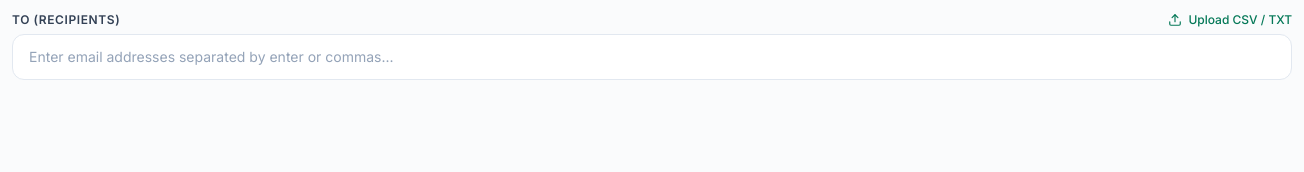
Test: RecipientChipInput Component › rejects invalid email formats
Type "not-an-email" into the field with placeholder "Enter email addresses separated by enter or commas..." at (652, 57), box [21,43,1283,71]
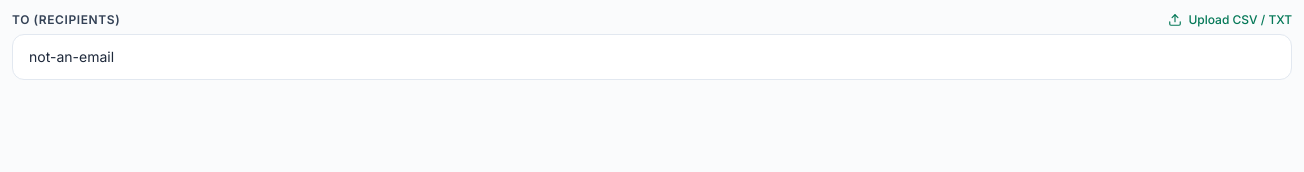
Press Enter in the field with placeholder "Enter email addresses separated by enter or commas...", box [21,43,1283,71]
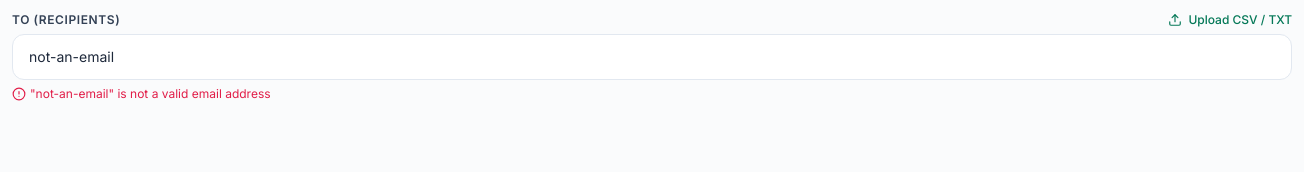
Expected: the text "\"not-an-email\" is not a valid email address" is shown, [30,86,271,102]
